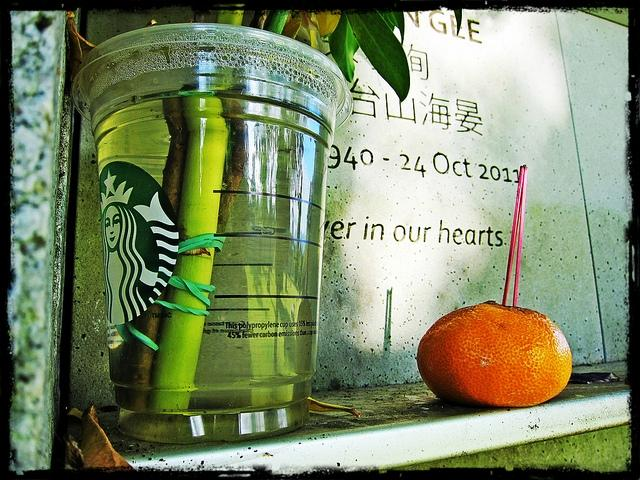orange: (416, 299, 572, 408)
